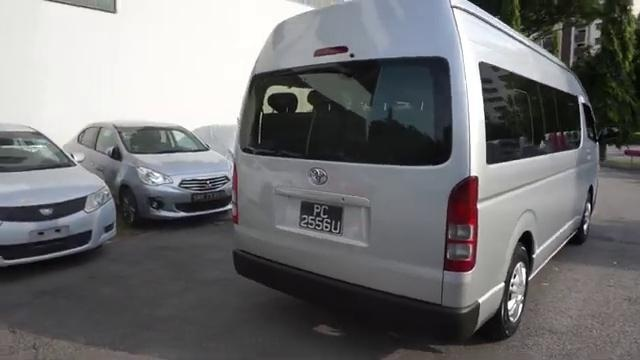van: (223, 0, 598, 344)
